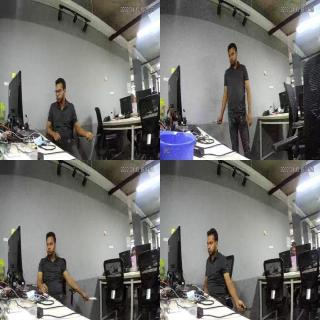knife: (241, 304, 257, 314), (210, 114, 220, 128), (85, 292, 97, 302), (89, 132, 101, 138)
